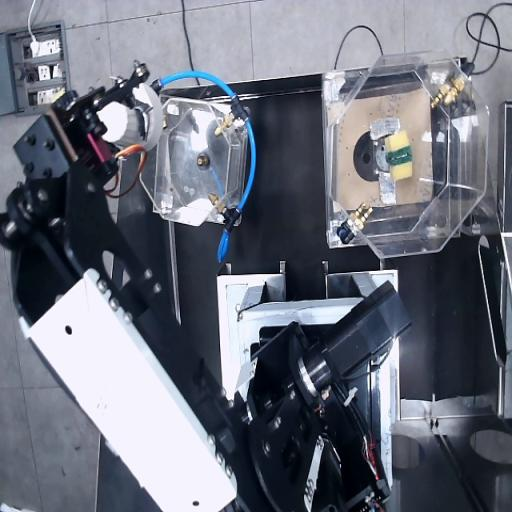cup in rinse station: (98, 84, 162, 149)
